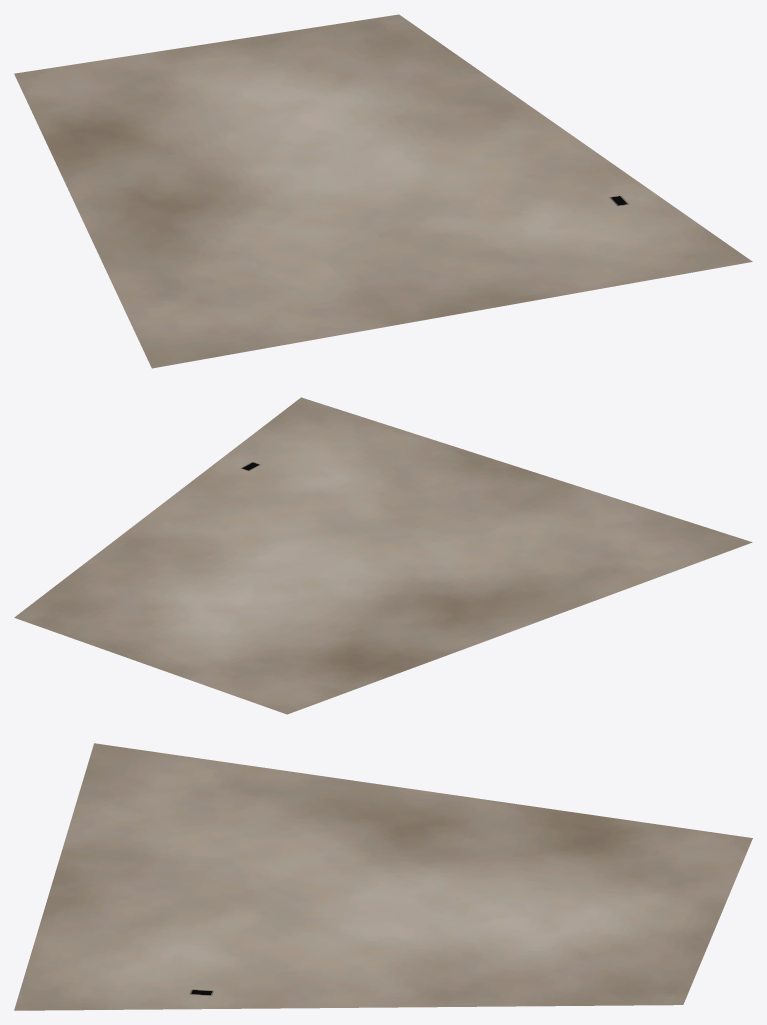
The model's file is web_13.fbx.
3 views of the same model, one above another, from view 1: azimuth 30°, elevation 25°; view 2: azimuth 150°, elevation 25°; view 3: azimuth 270°, elevation 25° (orthographic). The views are drawn at different scales.
Parts seen in each view (by area): view 1: mine_tileset/mine_web01_mat; view 2: mine_tileset/mine_web01_mat; view 3: mine_tileset/mine_web01_mat.
Part boxes in pixels (x1=…): mine_tileset/mine_web01_mat: x1=14, y1=14, x2=752, y2=368; mine_tileset/mine_web01_mat: x1=14, y1=397, x2=752, y2=714; mine_tileset/mine_web01_mat: x1=14, y1=743, x2=752, y2=1010.
Bounding box in the file's own units: 3.97 × 0 × 4.64.
